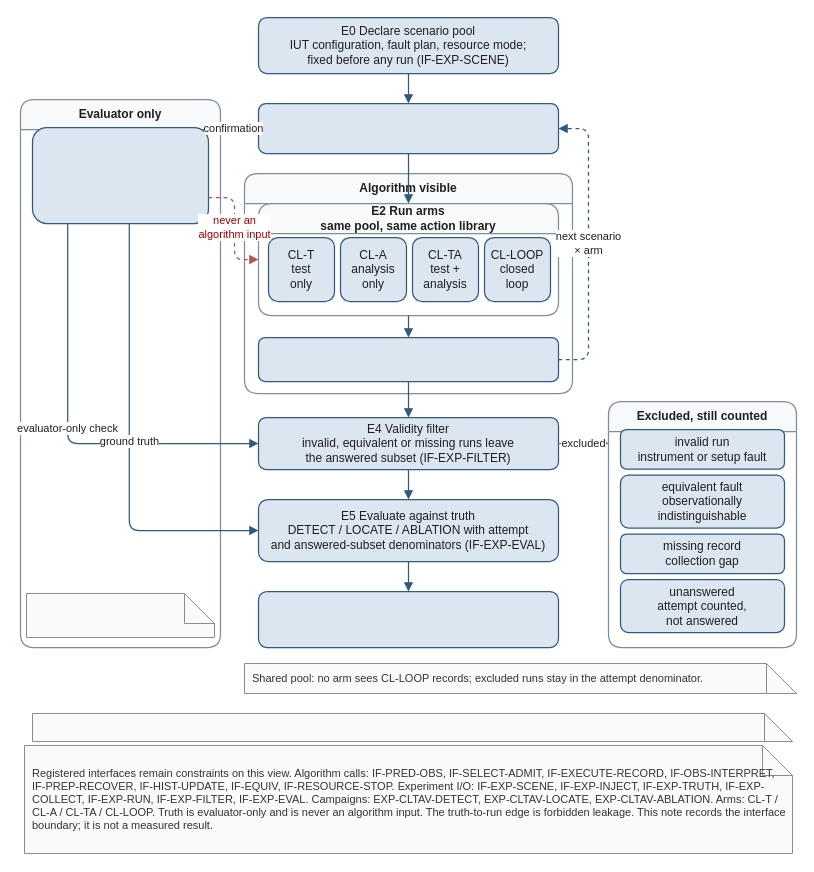
The diagram is 814 pixels wide and 872 high, and some of its shapes have lost their labels. Each missing label, with the centre of its shape:
E1 Inject fault, confirm execution per scenario (IF-EXP-INJECT): (x=408, y=128)
E3 Collect records I_k, q, cost, resource log (IF-EXP-COLLECT): (x=408, y=359)
E6 Answer RQ1–RQ3 comparable projections only; no unrun numbers: (x=408, y=619)
Legend: experiment flow; repeat; forbidden leakage; exclusion; method under test: (x=412, y=727)
Truth is never an algorithm input.: (x=120, y=615)
Truth record injection plan and execution confirmation (IF-EXP-TRUTH): (x=120, y=175)
